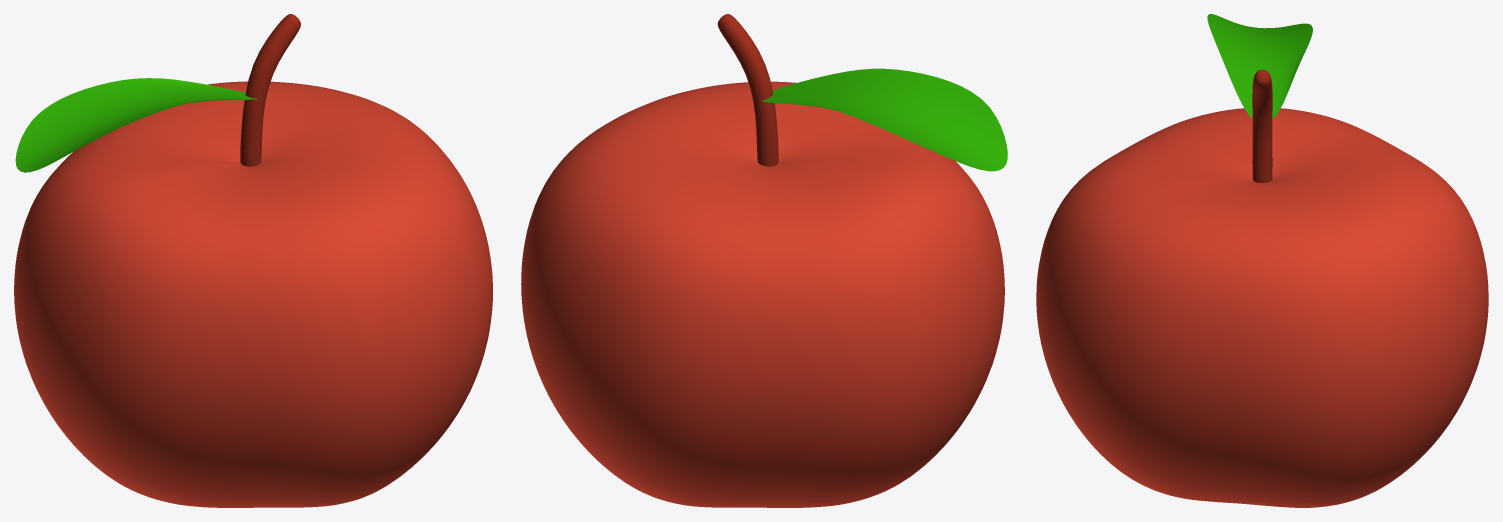
The model's file is Maçã.gltf.
3 renders of one model, left to right at view 1: azimuth 30°, elevation 25°; view 2: azimuth 150°, elevation 25°; view 3: azimuth 270°, elevation 25°, orthographic. The views are drawn at different scales.
Parts seen in each view (by area): view 1: Apple; view 2: Apple; view 3: Apple.
Boxes of the visible parts, x1,y1,x2,y2 form: Apple: (14,14,492,507); Apple: (521,14,1007,507); Apple: (1036,14,1488,507).
Bounding box in the file's own units: 2.07 × 2.04 × 1.97.
